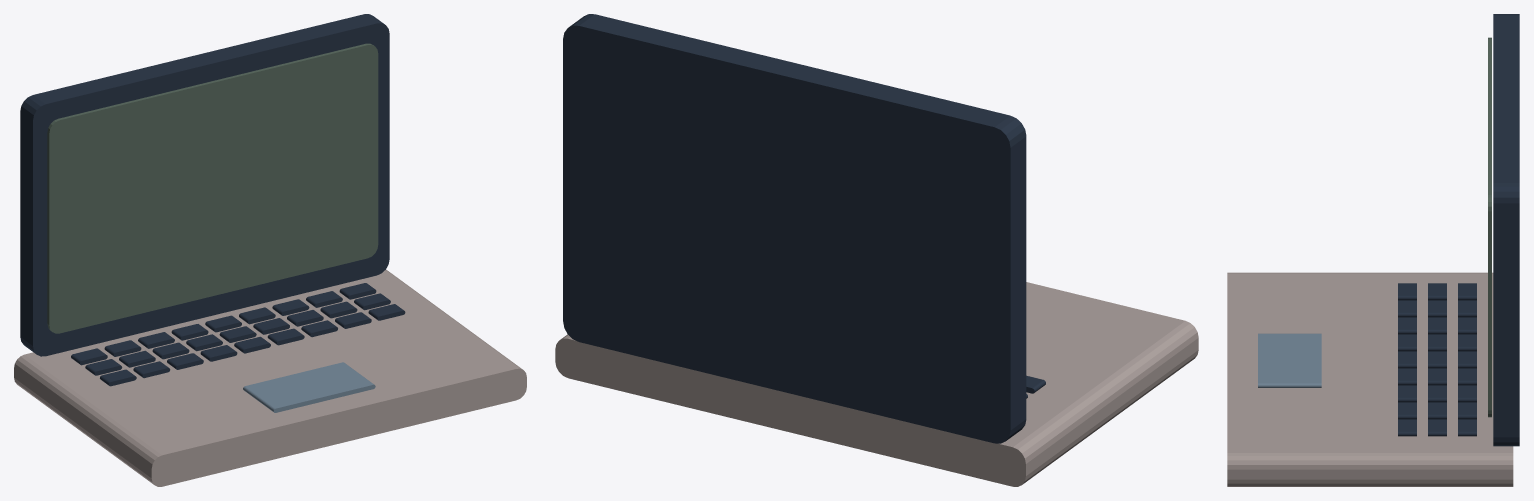
The model's file is laptop.glb.
The picture shows the model from 3 angles, left to right: view 1: azimuth 30°, elevation 25°; view 2: azimuth 150°, elevation 25°; view 3: azimuth 270°, elevation 25°; orthographic projection. The views are drawn at different scales.
Visible parts, largest first — view 1: display glass, base, display bezel, trackpad; view 2: display bezel, base; view 3: base, display bezel, trackpad, display glass, key 0-0, key 0-1, key 0-2, key 0-3, key 0-4, key 0-5, key 0-6, key 0-7 (+19 smaller).
Boxes of the visible parts, x1,y1,x2,y2 form: display glass: (47, 43, 378, 333); base: (14, 269, 526, 486); display bezel: (20, 14, 389, 356); trackpad: (243, 362, 375, 412); display bezel: (563, 14, 1026, 443); base: (555, 282, 1198, 486); base: (1227, 272, 1513, 486); display bezel: (1493, 14, 1519, 446); trackpad: (1258, 333, 1321, 387); display glass: (1488, 37, 1491, 417); key 0-0: (1458, 283, 1476, 300); key 0-1: (1458, 300, 1476, 317); key 0-2: (1458, 317, 1476, 334); key 0-3: (1458, 334, 1476, 351); key 0-4: (1458, 351, 1476, 368); key 0-5: (1458, 368, 1476, 385); key 0-6: (1458, 385, 1476, 402); key 0-7: (1458, 402, 1476, 419).
Bounding box in the file's own units: 1.62 × 1.18 × 1.05.
